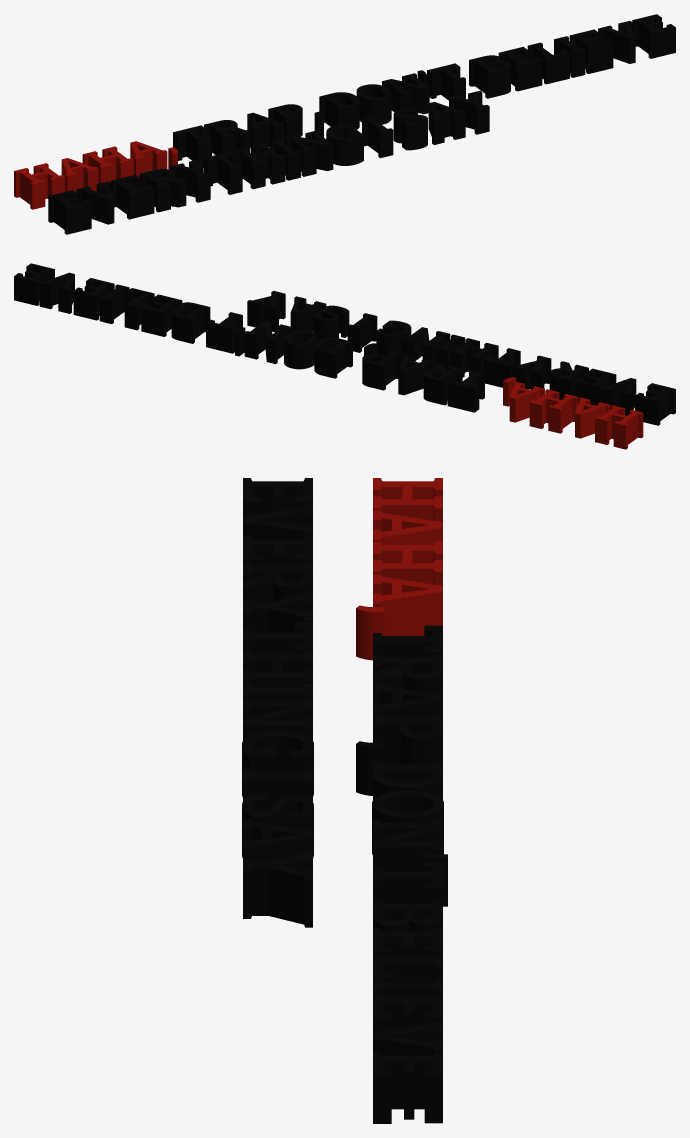
Rendered from Trap.fbx.
3 views of the same model, one above another, from view 1: azimuth 30°, elevation 25°; view 2: azimuth 150°, elevation 25°; view 3: azimuth 270°, elevation 25° (orthographic). The views are drawn at different scales.
Parts seen in each view (by area): view 1: Text; view 2: Text; view 3: Text.
Boxes of the visible parts, x1,y1,x2,y2 form: Text: (14,14,675,234); Text: (14,263,675,449); Text: (242,478,447,1123).
Bounding box in the file's own units: 1251 × 47 × 182.
